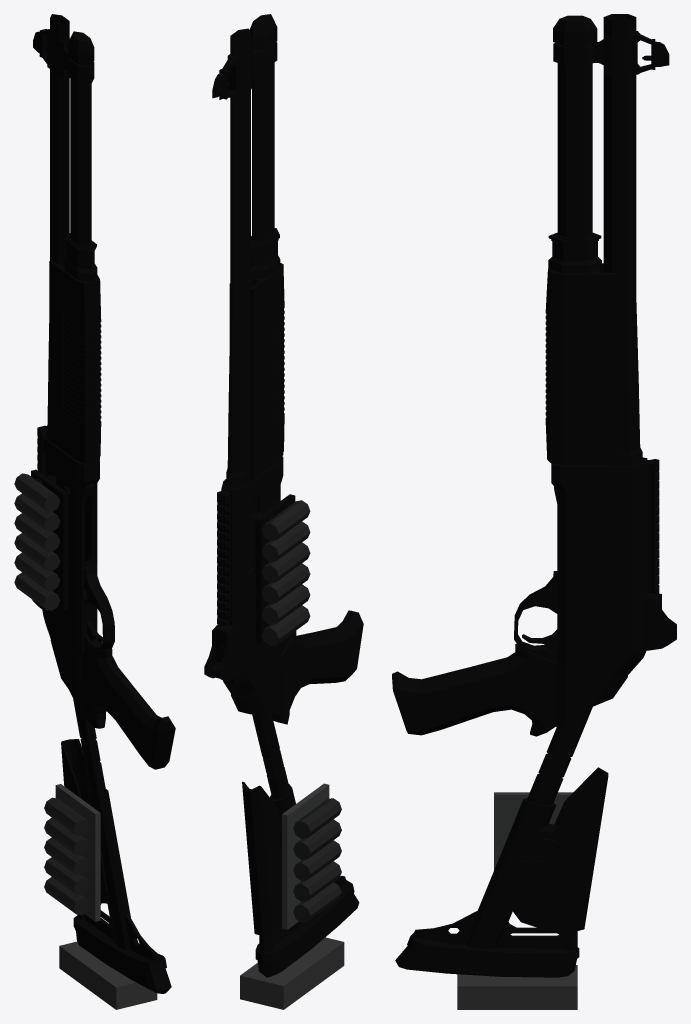
File: BenelliM4__RecoilPad_Rubber__ShellHolder_Butt__Sidesaddle_Shotgun.fbx
The picture shows the model from 3 angles, left to right: view 1: azimuth 30°, elevation 25°; view 2: azimuth 150°, elevation 25°; view 3: azimuth 270°, elevation 25°; orthographic projection. The views are drawn at different scales.
Visible parts, largest first — view 1: asset_BenelliM4.001; view 2: asset_BenelliM4.001; view 3: asset_BenelliM4.001.
Part boxes in pixels (x1,y1,x2,y2): asset_BenelliM4.001: [14, 14, 175, 1009]; asset_BenelliM4.001: [204, 14, 363, 1009]; asset_BenelliM4.001: [392, 14, 676, 1009].
Bounding box in the file's own units: 0.0429 × 0.621 × 0.1633.
